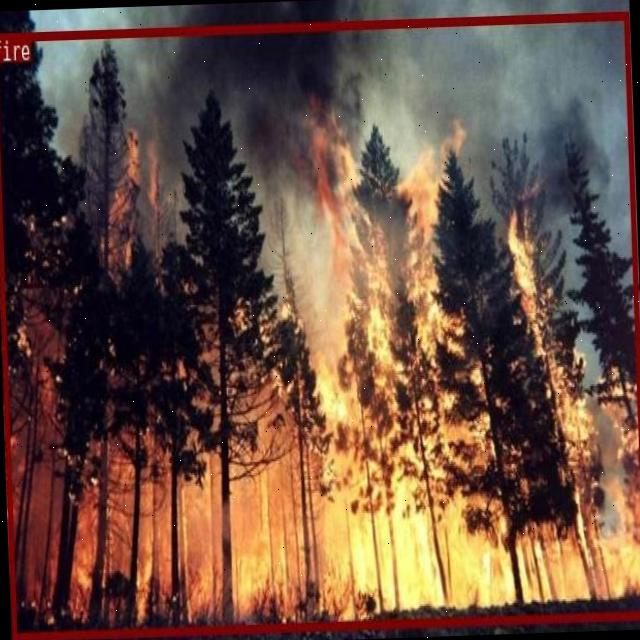fire: (0, 10, 640, 638)
